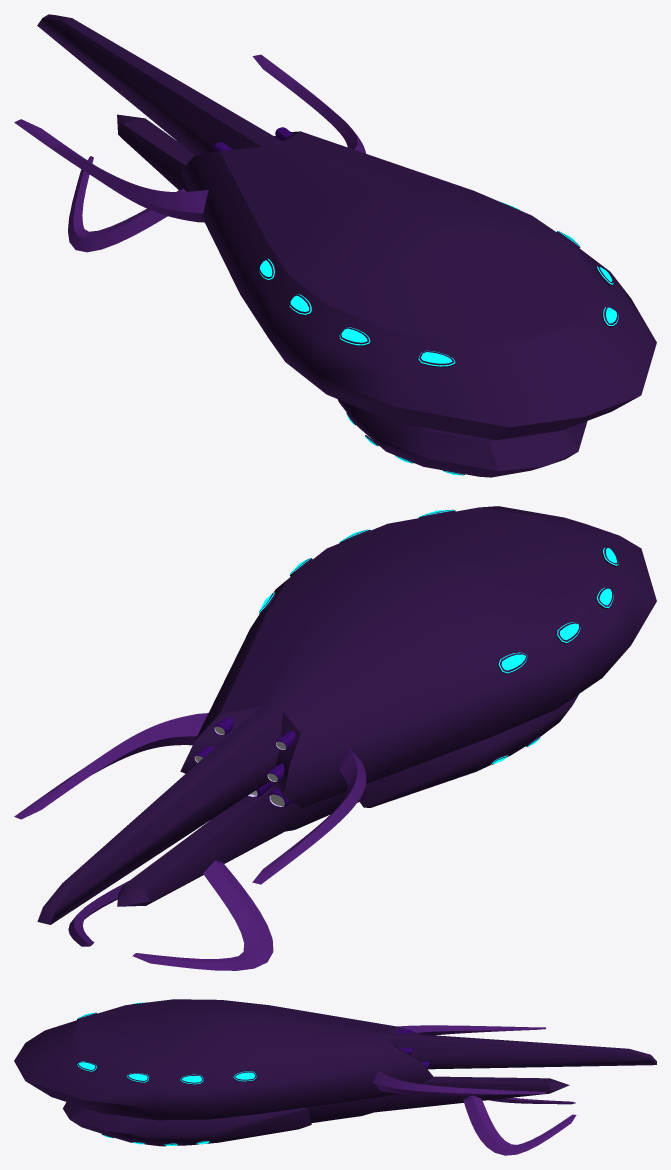
File: Enemy_Carrier.fbx
The picture shows the model from 3 angles, top to bottom: view 1: azimuth 30°, elevation 25°; view 2: azimuth 150°, elevation 25°; view 3: azimuth 270°, elevation 25°; orthographic projection. The views are drawn at different scales.
Parts seen in each view (by area): view 1: pCube20; view 2: pCube20; view 3: pCube20.
Part boxes in pixels (<box>): pCube20: <box>14,14,656,477</box>; pCube20: <box>14,506,656,970</box>; pCube20: <box>14,999,656,1155</box>.
Bounding box in the file's own units: 1963 × 1147 × 5843.
